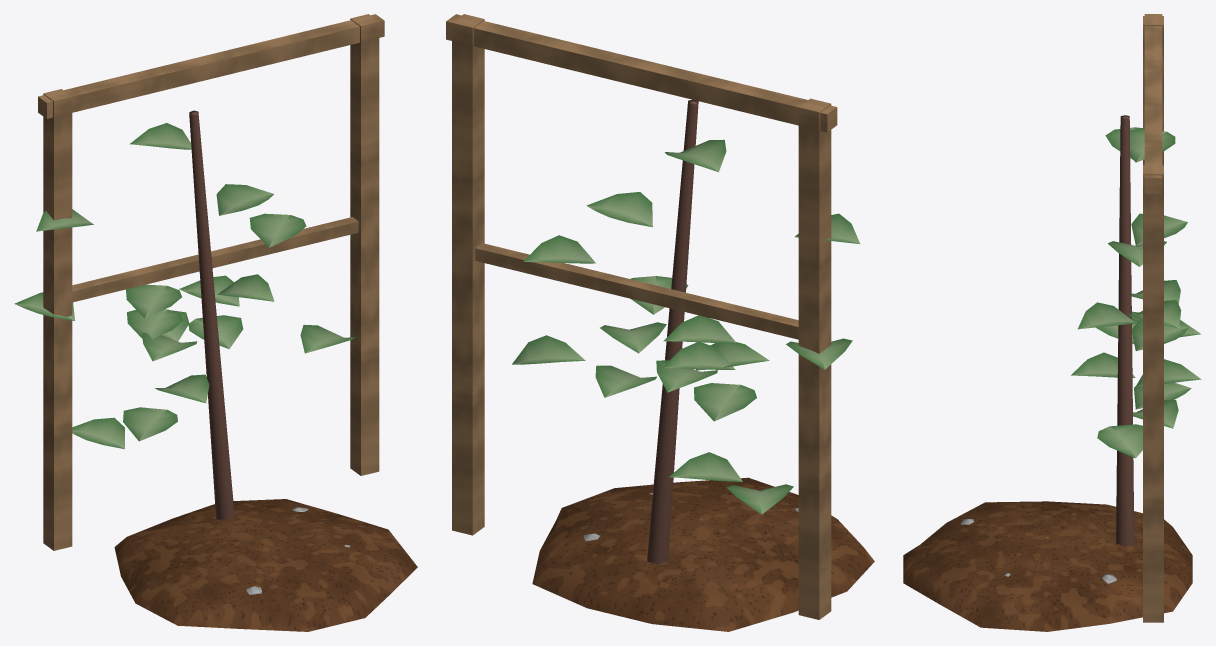
File: plant-grape-4.glb
The picture shows the model from 3 angles, left to right: view 1: azimuth 30°, elevation 25°; view 2: azimuth 150°, elevation 25°; view 3: azimuth 270°, elevation 25°; orthographic projection. The views are drawn at different scales.
Parts seen in each view (by area): view 1: plant-grape-4; view 2: plant-grape-4; view 3: plant-grape-4.
Part boxes in pixels (x1,y1,x2,y2): plant-grape-4: (14,14,417,631); plant-grape-4: (446,14,874,631); plant-grape-4: (903,14,1201,631).
Bounding box in the file's own units: 1.15 × 1.48 × 0.845.
Materials: 5 (3 with a texture image).
